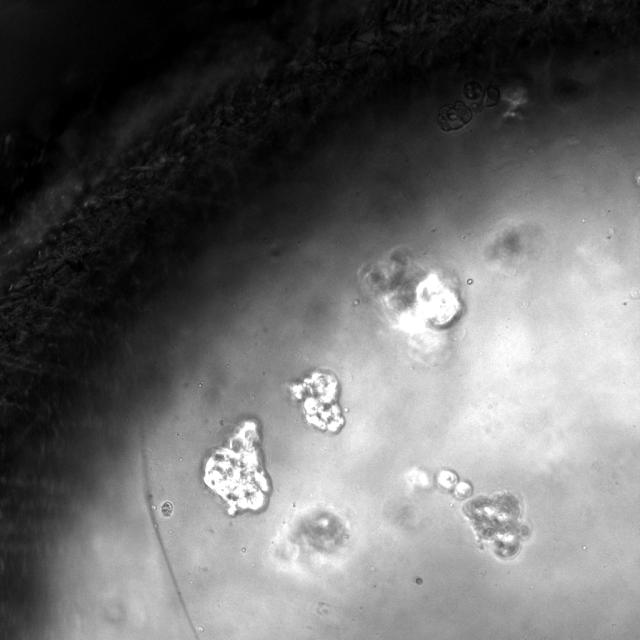organoid: (358, 247, 465, 363), (204, 420, 271, 515), (463, 491, 530, 559), (275, 505, 349, 564), (285, 368, 345, 435), (438, 80, 500, 132), (436, 468, 472, 500), (159, 500, 174, 518), (415, 577, 423, 585)
